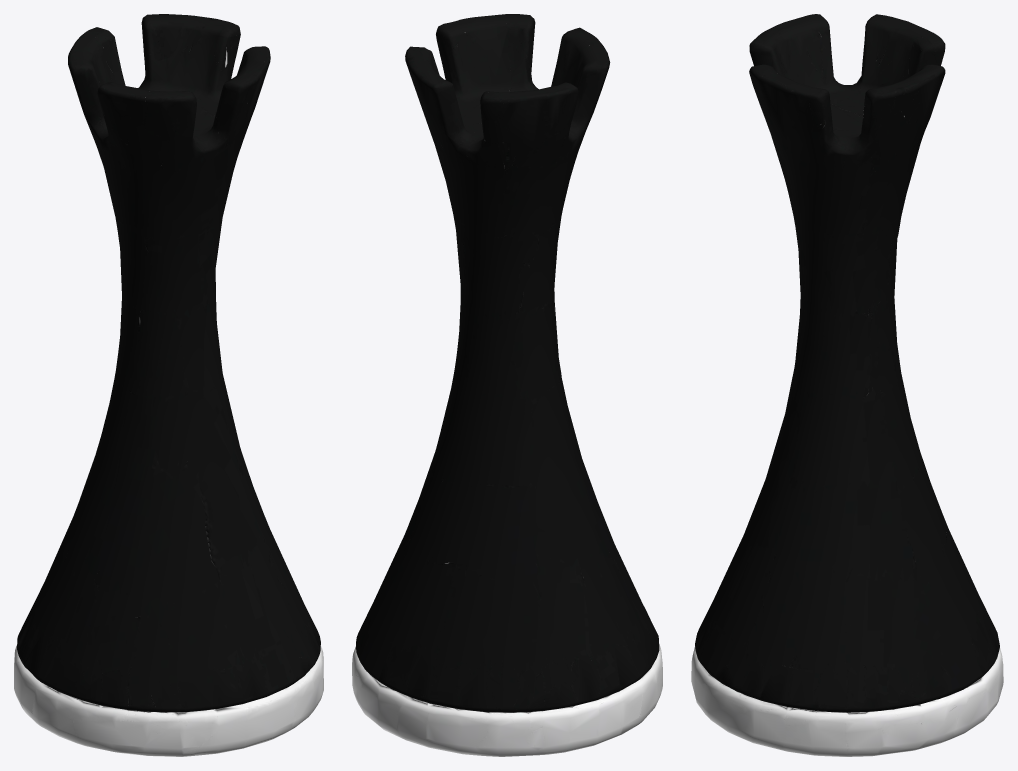
The model's file is bishop-black.glb.
3 renders of one model, left to right at view 1: azimuth 30°, elevation 25°; view 2: azimuth 150°, elevation 25°; view 3: azimuth 270°, elevation 25°, orthographic.
Size of the model in its own units: 0.6625 by 1.5 by 0.6625.
Materials: 1 (1 with a texture image).
